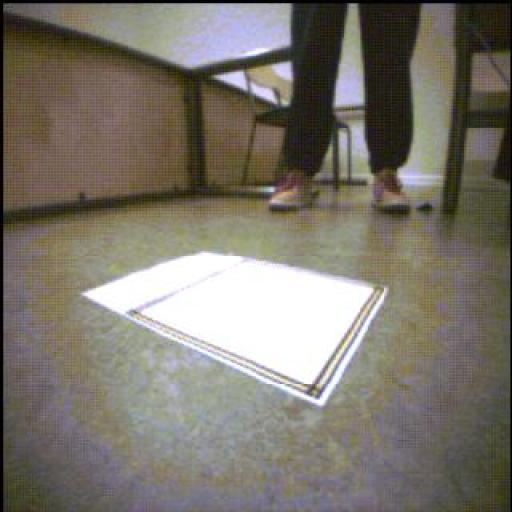Pad: (84, 254, 388, 407)
